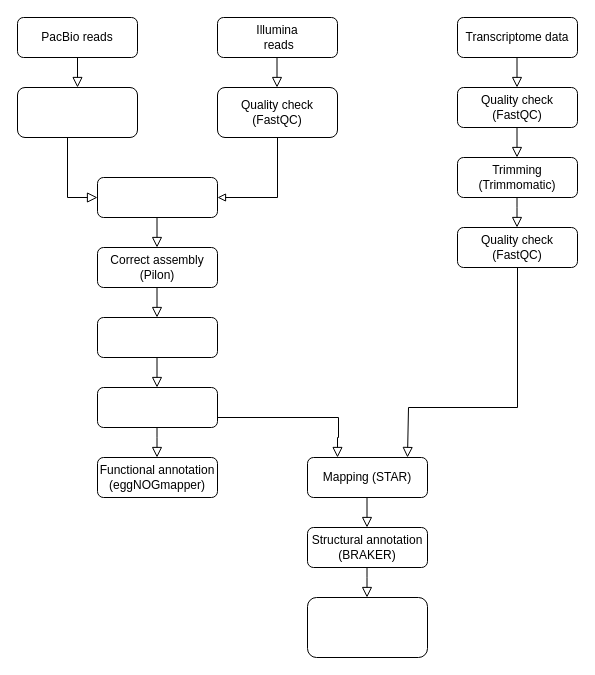
Image size: 595x675. Some labels were removed from this diagram. The shapes that lost their labels are listed below. From the top down, each one's centre as x and y in pixels, then its label:
the point at 77,112: Quality check + Genome assembly (Canu)
the point at 157,197: Mapping (BWA)
the point at 157,337: Assembly evaluation (Quast)
the point at 157,407: Assembly masking (RepeatMasker)
the point at 367,627: Differential expression analysis (HTseq + DESeq2)
